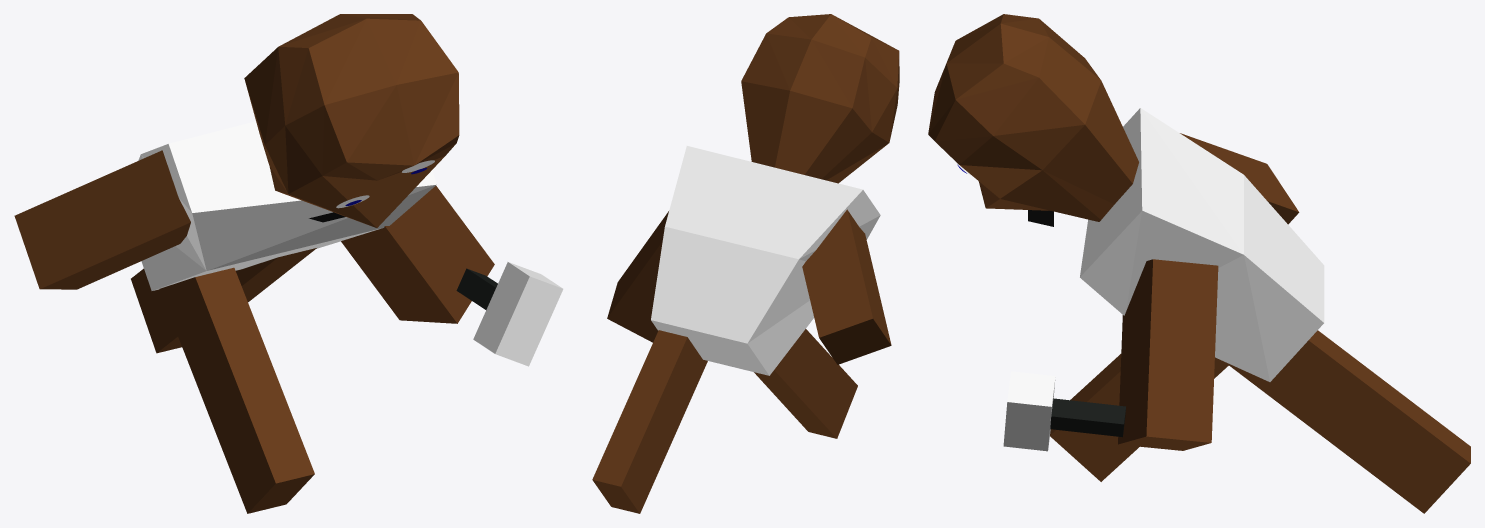
Rendered from slave3f.obj.
3 renders of one model, left to right at view 1: azimuth 30°, elevation 25°; view 2: azimuth 150°, elevation 25°; view 3: azimuth 270°, elevation 25°, orthographic. The views are drawn at different scales.
Visible parts, largest first — view 1: Cube, Cube.001, Cube.004, Cube.003, Cube.002, Cube.008, Cube.005, Cube.007; view 2: Cube.001, Cube, Cube.005, Cube.003, Cube.004, Cube.002; view 3: Cube.001, Cube, Cube.005, Cube.002, Cube.004, Cube.008, Cube.007, Cube.003.
Boxes of the visible parts, left/top/right/bottom form: Cube: left=244, top=14, right=459, bottom=227; Cube.001: left=138, top=121, right=436, bottom=290; Cube.004: left=159, top=267, right=314, bottom=513; Cube.003: left=14, top=150, right=190, bottom=289; Cube.002: left=341, top=186, right=494, bottom=323; Cube.008: left=473, top=262, right=563, bottom=366; Cube.005: left=131, top=248, right=316, bottom=353; Cube.007: left=456, top=268, right=497, bottom=309; Cube.001: left=651, top=146, right=880, bottom=375; Cube: left=741, top=14, right=899, bottom=183; Cube.005: left=592, top=330, right=707, bottom=513; Cube.003: left=802, top=209, right=891, bottom=364; Cube.004: left=754, top=329, right=857, bottom=438; Cube.002: left=607, top=211, right=668, bottom=342; Cube.001: left=1080, top=108, right=1324, bottom=381; Cube: left=928, top=14, right=1138, bottom=221; Cube.005: left=1224, top=330, right=1470, bottom=513; Cube.002: left=1118, top=259, right=1218, bottom=450; Cube.004: left=1050, top=354, right=1228, bottom=481; Cube.008: left=1003, top=371, right=1055, bottom=451; Cube.007: left=1050, top=398, right=1125, bottom=437; Cube.003: left=1180, top=133, right=1299, bottom=224.
Size of the model in its own units: 3.66 by 4.4 by 4.61.
